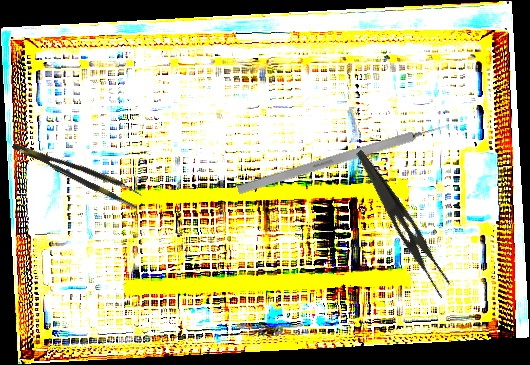Dressing Forceps: (340, 149, 461, 300)
Hook Surgical: (236, 119, 454, 195)
Tissue Forceps: (10, 131, 144, 211)
